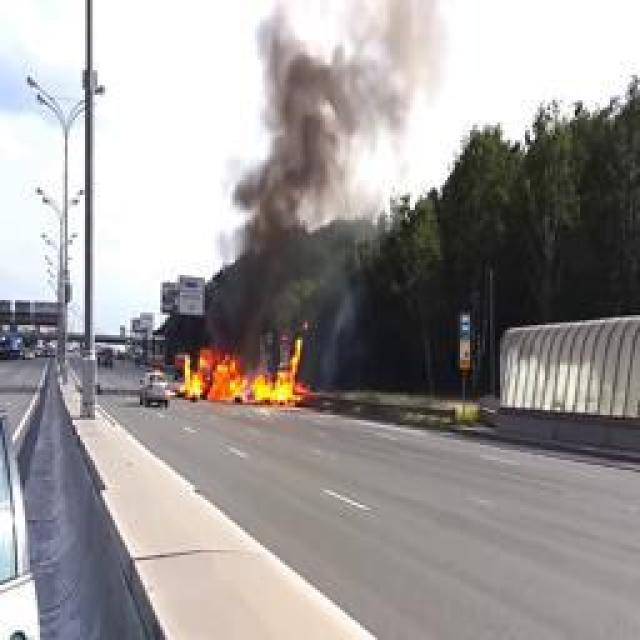Fire: (181, 336, 314, 406)
